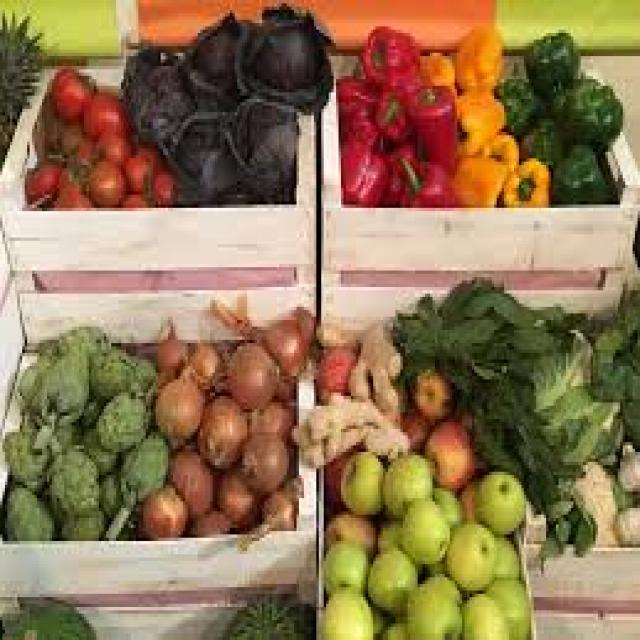organic waste: (390, 277, 638, 568), (24, 320, 114, 452), (227, 0, 334, 109), (99, 419, 175, 534), (314, 314, 403, 412), (286, 389, 408, 459), (208, 287, 302, 376), (222, 92, 299, 195), (119, 36, 188, 148), (160, 106, 240, 201), (183, 10, 254, 109), (336, 96, 400, 201), (198, 333, 276, 409), (548, 72, 622, 152), (42, 442, 101, 538), (0, 3, 37, 155), (546, 139, 615, 201), (156, 356, 205, 442), (195, 386, 247, 465), (571, 452, 615, 544), (0, 594, 94, 637), (442, 518, 494, 594), (522, 26, 578, 96), (220, 594, 311, 637), (89, 390, 148, 456), (237, 488, 297, 551), (358, 23, 418, 86), (0, 412, 49, 488), (84, 343, 158, 393), (408, 79, 452, 162), (452, 20, 502, 92), (452, 86, 504, 152), (425, 416, 474, 485), (96, 459, 136, 541), (472, 465, 524, 528), (2, 475, 54, 538), (402, 580, 460, 636), (237, 429, 292, 488), (366, 551, 415, 617), (336, 60, 376, 138), (165, 442, 212, 508), (378, 452, 430, 511), (146, 324, 193, 389), (400, 495, 448, 557), (318, 580, 371, 636), (452, 152, 509, 204), (336, 449, 383, 511), (47, 62, 99, 116), (398, 152, 455, 201), (18, 337, 60, 402), (321, 534, 366, 594), (321, 432, 361, 498), (138, 482, 188, 534), (482, 574, 526, 633), (321, 505, 373, 554), (497, 152, 546, 204), (514, 99, 556, 158), (494, 60, 531, 126), (212, 465, 255, 521), (118, 138, 160, 192), (316, 346, 358, 399), (180, 346, 230, 389), (245, 389, 294, 432), (79, 426, 116, 482), (408, 360, 447, 412), (460, 590, 504, 636), (381, 142, 415, 201), (373, 89, 413, 139), (22, 152, 64, 198), (84, 152, 121, 201), (82, 89, 121, 135), (96, 118, 136, 162), (477, 125, 519, 165), (610, 439, 638, 488), (398, 396, 425, 445), (45, 112, 79, 149), (418, 46, 452, 83), (430, 482, 462, 521), (52, 172, 94, 201), (190, 505, 235, 531), (489, 531, 516, 574), (420, 571, 460, 600), (608, 501, 637, 541), (151, 165, 178, 204), (458, 475, 480, 518), (373, 514, 400, 548), (69, 139, 99, 168), (373, 617, 405, 637), (124, 184, 146, 204)
